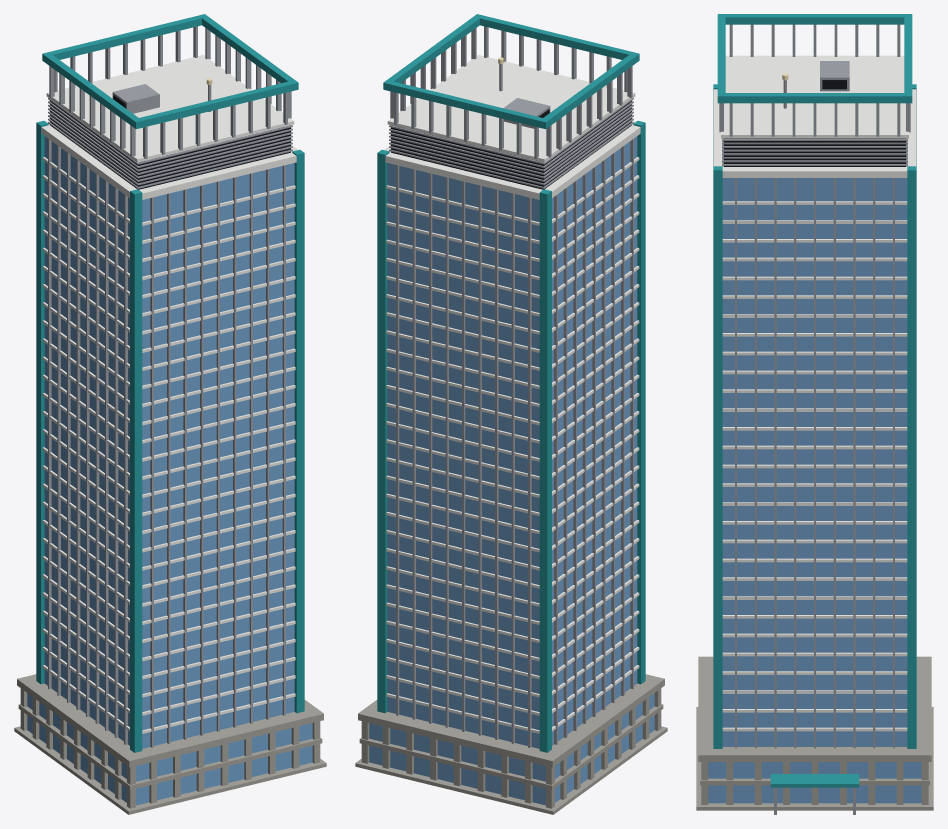
File: Skyline_Office.fbx
The picture shows the model from 3 angles, left to right: view 1: azimuth 30°, elevation 25°; view 2: azimuth 150°, elevation 25°; view 3: azimuth 270°, elevation 25°; orthographic projection. The views are drawn at different scales.
Visible parts, largest first — view 1: Window, Metal, White, Teal, Concrete, Dark; view 2: Window, Metal, White, Teal, Concrete, Dark; view 3: Window, White, Metal, Teal, Concrete, Dark.
Boxes of the visible parts, x1,y1,x2,y2 form: Window: (27,136,312,805); Metal: (48,26,292,747); White: (41,55,297,733); Teal: (36,14,304,752); Concrete: (14,674,326,814); Dark: (50,95,290,189); Window: (369,136,654,805); Metal: (389,26,633,747); White: (384,55,640,733); Teal: (377,14,645,752); Concrete: (355,674,667,814); Dark: (391,101,631,189); Window: (708,178,921,803); White: (713,55,916,731); Metal: (719,24,910,814); Teal: (713,14,916,787); Concrete: (696,656,933,810); Dark: (723,80,906,166).
Size of the model in its own units: 52 by 158 by 48.
